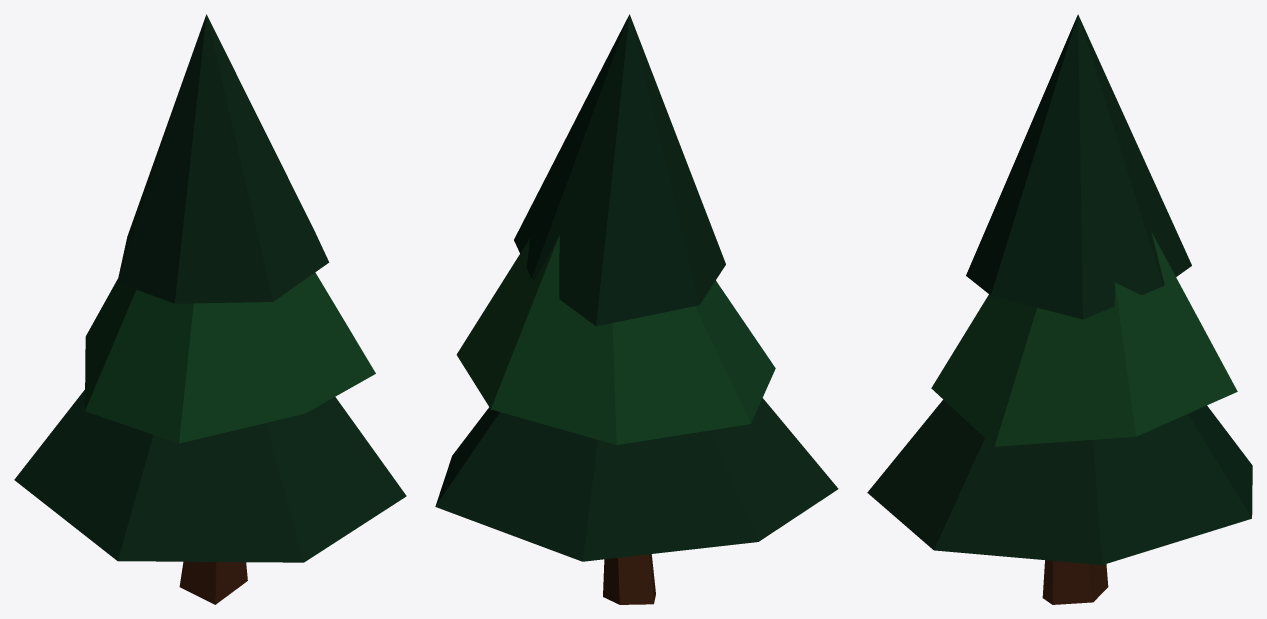
The model's file is world_tree_conifer_s.fbx.
3 renders of one model, left to right at view 1: azimuth 30°, elevation 25°; view 2: azimuth 150°, elevation 25°; view 3: azimuth 270°, elevation 25°, orthographic. The views are drawn at different scales.
Visible parts, largest first — view 1: world_tree_conifer_s; view 2: world_tree_conifer_s; view 3: world_tree_conifer_s.
Boxes of the visible parts, x1,y1,x2,y2 form: world_tree_conifer_s: (14,14,406,604); world_tree_conifer_s: (435,14,838,604); world_tree_conifer_s: (867,14,1252,604).
Bounding box in the file's own units: 591 × 1016 × 603.
